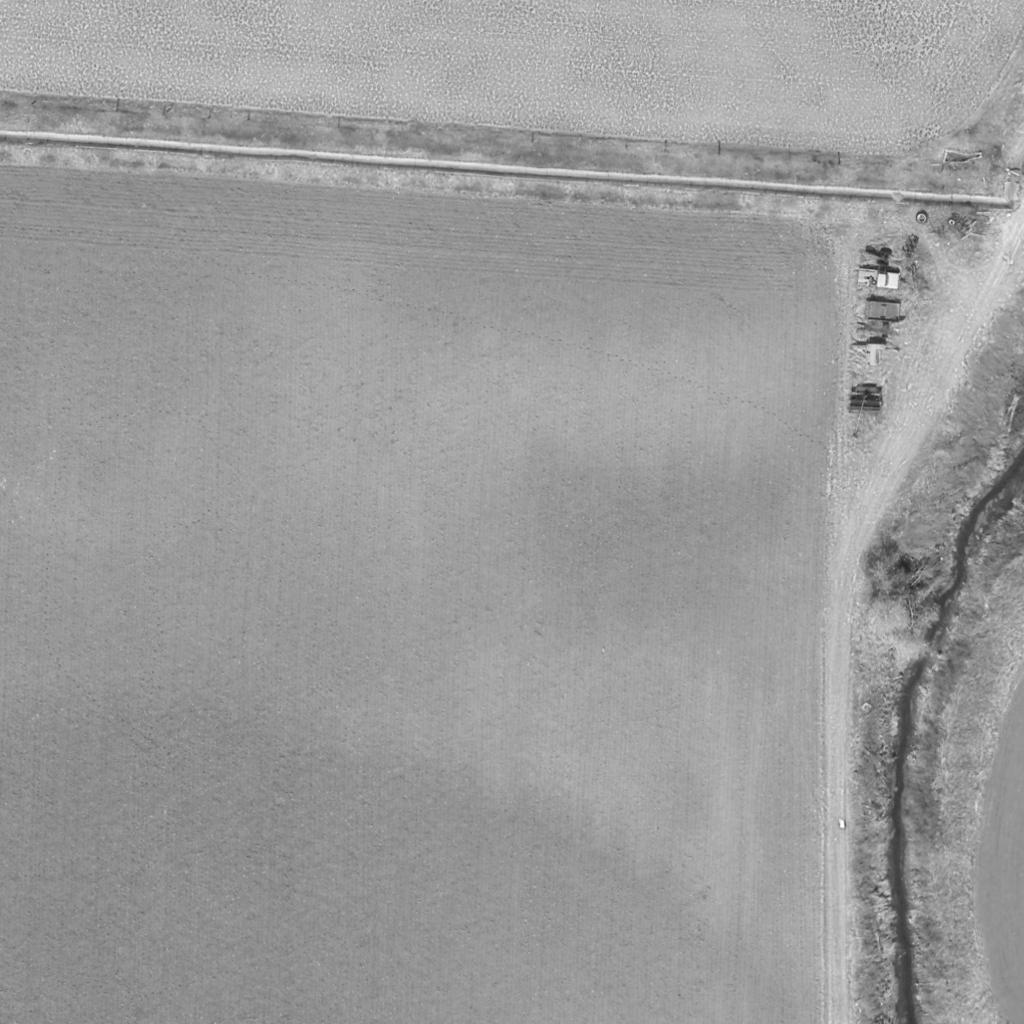vehicle: (855, 268, 903, 290)
